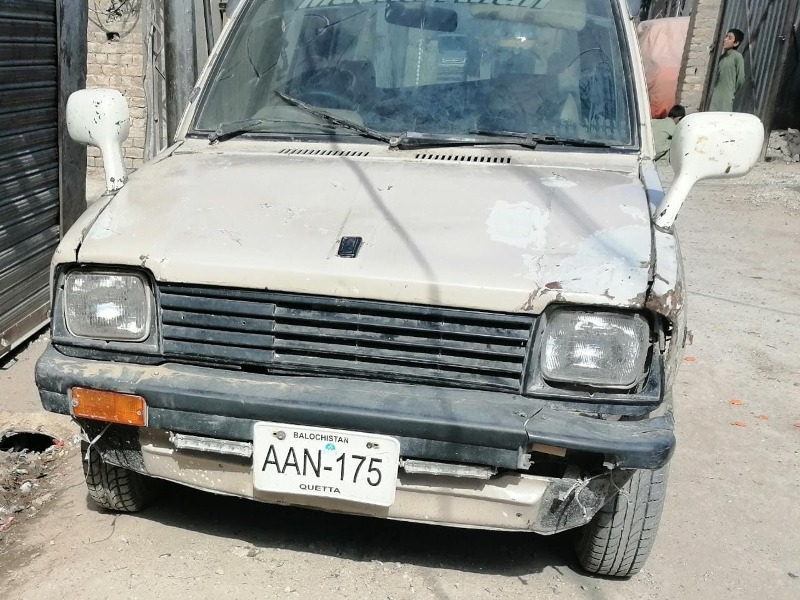License Plate: (251, 420, 403, 509)
